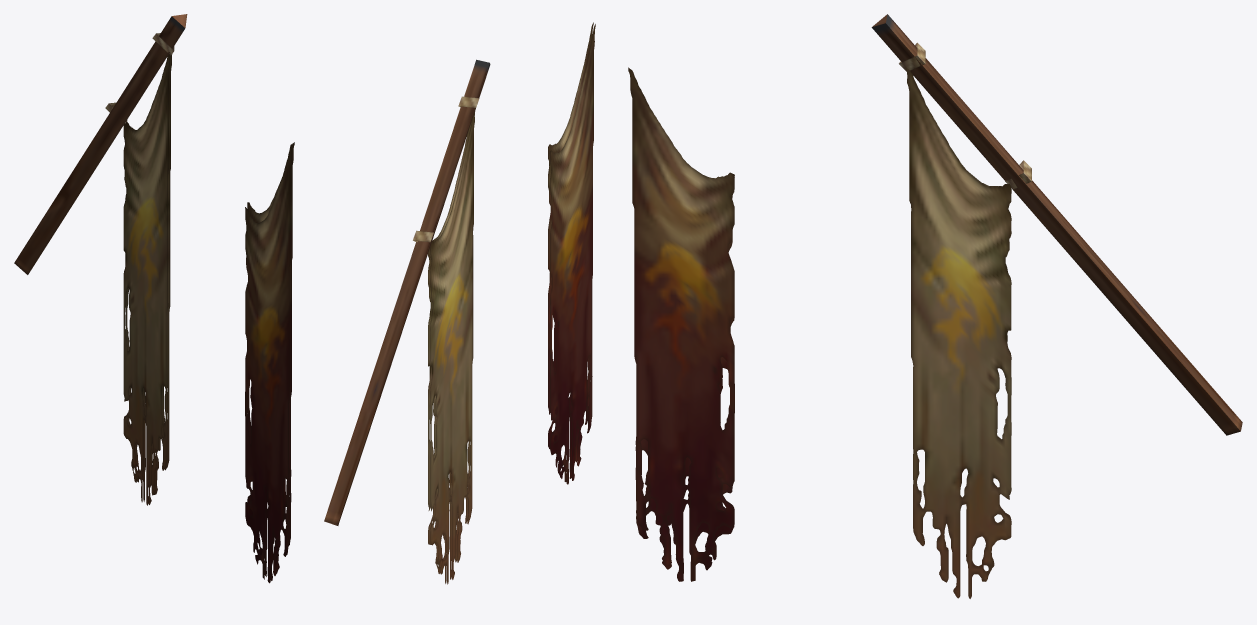
Rendered from 2_YiZhan_QiZhi_01.FBX.
3 renders of one model, left to right at view 1: azimuth 30°, elevation 25°; view 2: azimuth 150°, elevation 25°; view 3: azimuth 270°, elevation 25°, orthographic. The views are drawn at different scales.
Parts seen in each view (by area): view 1: 2_YiZhan_QiZhi_03, 2_YiZhan_QiZhi_02, 2_YiZhan_QiZhi_01; view 2: 2_YiZhan_QiZhi_03, 2_YiZhan_QiZhi_02, 2_YiZhan_QiZhi_01; view 3: 2_YiZhan_QiZhi_02, 2_YiZhan_QiZhi_03, 2_YiZhan_QiZhi_01.
Part boxes in pixels (x1=…): 2_YiZhan_QiZhi_03: x1=123, y1=53, x2=172, y2=505; 2_YiZhan_QiZhi_02: x1=245, y1=142, x2=294, y2=583; 2_YiZhan_QiZhi_01: x1=14, y1=14, x2=187, y2=274; 2_YiZhan_QiZhi_03: x1=428, y1=111, x2=475, y2=584; 2_YiZhan_QiZhi_02: x1=548, y1=22, x2=595, y2=484; 2_YiZhan_QiZhi_01: x1=324, y1=59, x2=490, y2=525; 2_YiZhan_QiZhi_02: x1=628, y1=67, x2=734, y2=581; 2_YiZhan_QiZhi_03: x1=905, y1=66, x2=1011, y2=598; 2_YiZhan_QiZhi_01: x1=871, y1=14, x2=1242, y2=435.
Size of the model in its own units: 17.09 by 467 by 442.
